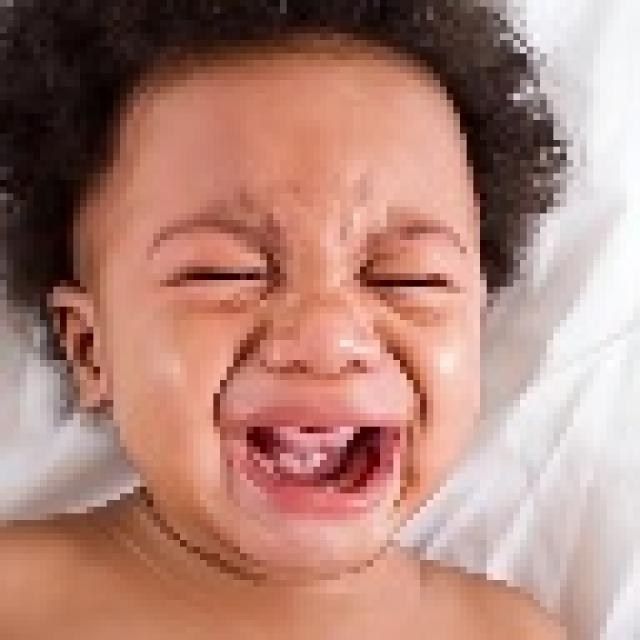sad: (58, 32, 510, 619)
